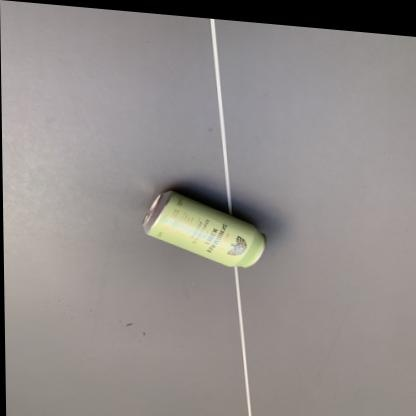trash: (143, 191, 264, 267)
